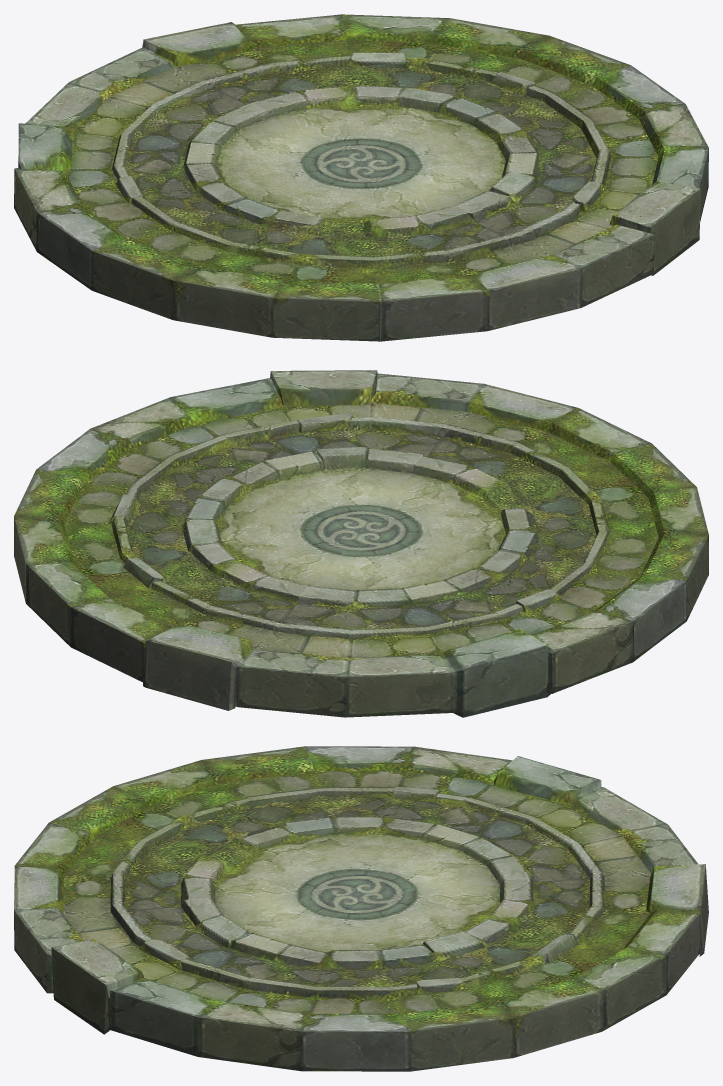
File: Hangzhou_wj_014.FBX
3 renders of one model, top to bottom at view 1: azimuth 30°, elevation 25°; view 2: azimuth 150°, elevation 25°; view 3: azimuth 270°, elevation 25°, orthographic.
Visible parts, largest first — view 1: Object002yuanpan; view 2: Object002yuanpan; view 3: Object002yuanpan.
Boxes of the visible parts, x1,y1,x2,y2 form: Object002yuanpan: (14,14,708,341); Object002yuanpan: (14,370,708,717); Object002yuanpan: (14,746,708,1071).
Bounding box in the file's own units: 560 × 51.51 × 566.
Materials: 1 (1 with a texture image).
